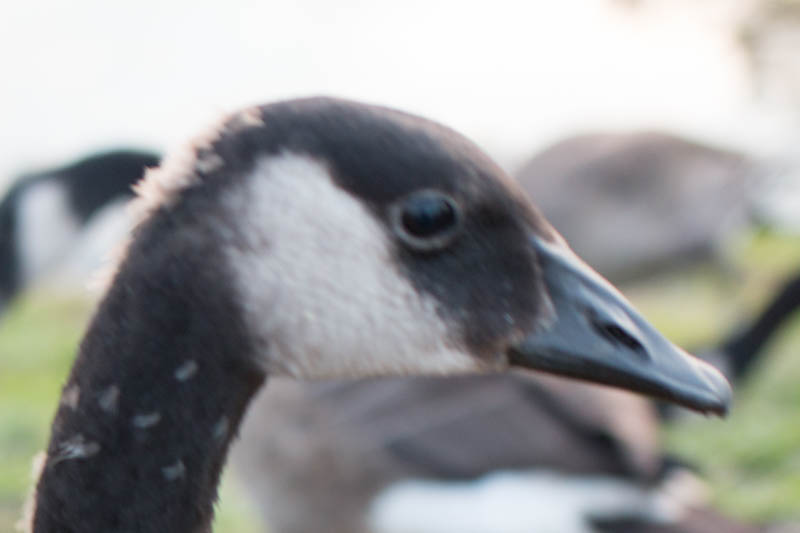goose-head: (110, 97, 733, 422)
